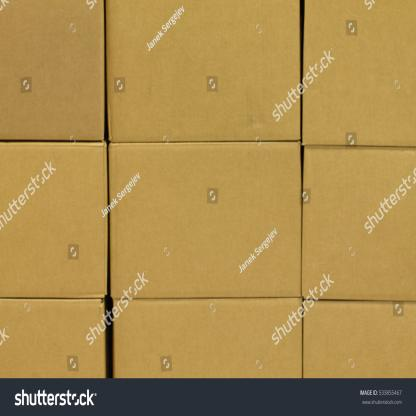box: (109, 141, 302, 297), (106, 0, 301, 138), (301, 150, 416, 299), (0, 141, 108, 297), (301, 0, 416, 145), (113, 298, 302, 380), (0, 0, 104, 140), (0, 294, 107, 380), (303, 301, 415, 376)
